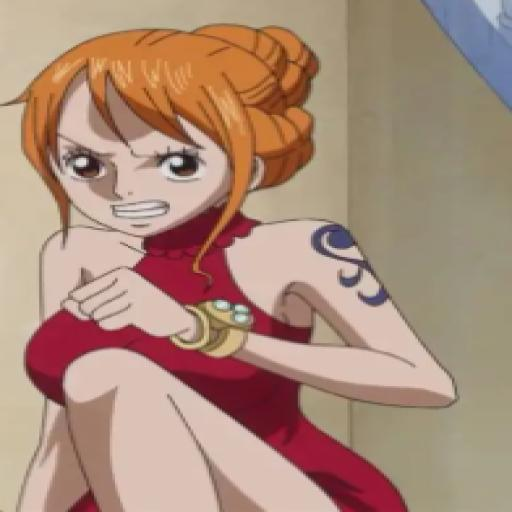Nami: (0, 21, 489, 512)
